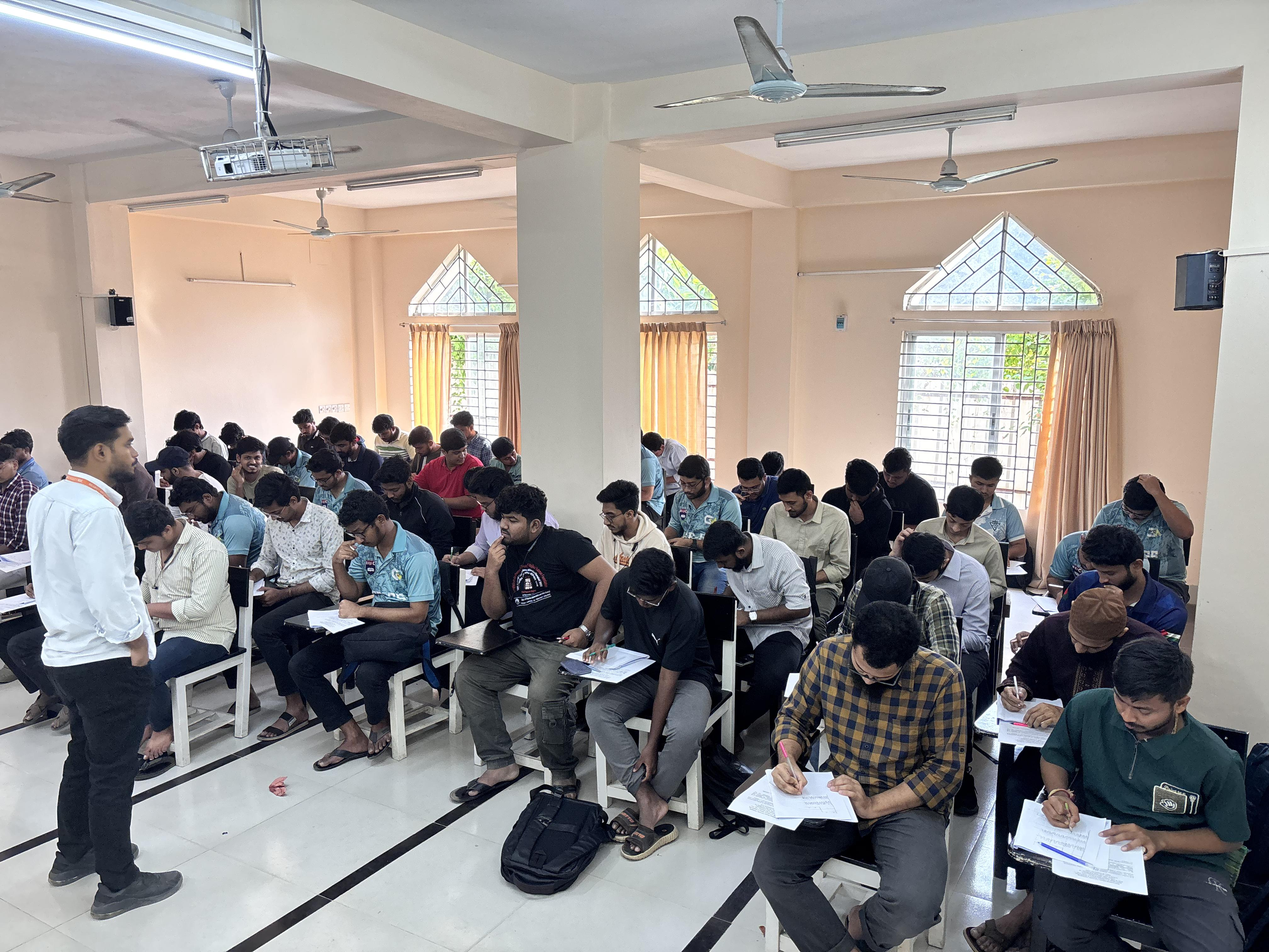copying: (433, 435, 486, 497), (495, 441, 534, 479)
invigilator: (25, 403, 165, 872)
no_cheating: (762, 609, 972, 952), (1026, 657, 1257, 952), (581, 543, 711, 832), (475, 491, 590, 723), (996, 599, 1111, 745), (128, 492, 217, 671), (231, 478, 327, 595), (1100, 475, 1223, 556), (1076, 530, 1174, 626), (361, 448, 443, 528), (716, 519, 785, 607), (754, 473, 833, 548), (582, 473, 656, 544), (449, 462, 517, 538), (183, 466, 243, 545), (653, 453, 719, 520), (836, 455, 890, 535), (867, 437, 924, 509), (928, 496, 992, 560), (965, 456, 1019, 526), (303, 455, 367, 512), (732, 458, 785, 515), (332, 423, 380, 485), (373, 407, 418, 464), (455, 395, 500, 452), (406, 421, 447, 472), (161, 411, 218, 444), (640, 426, 686, 465), (8, 428, 50, 468), (277, 415, 322, 448), (756, 447, 791, 483)
side_talking: (238, 435, 282, 489)
suspicious_moving: (144, 442, 208, 492)
